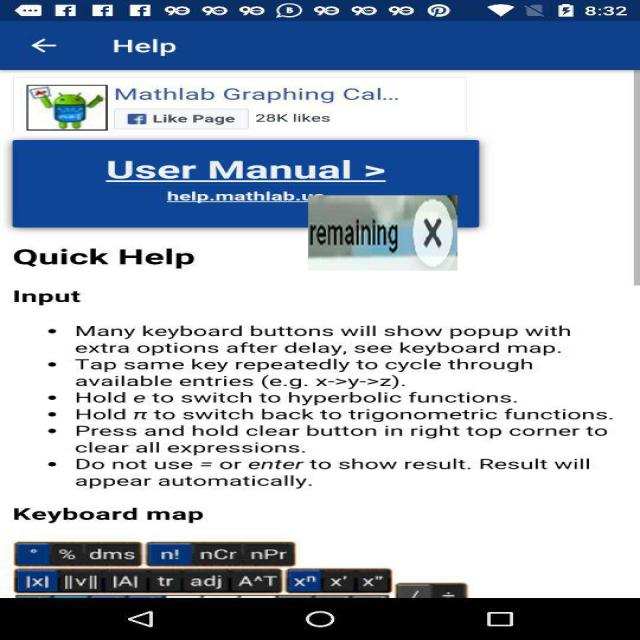misdirection: (308, 195, 458, 271)
